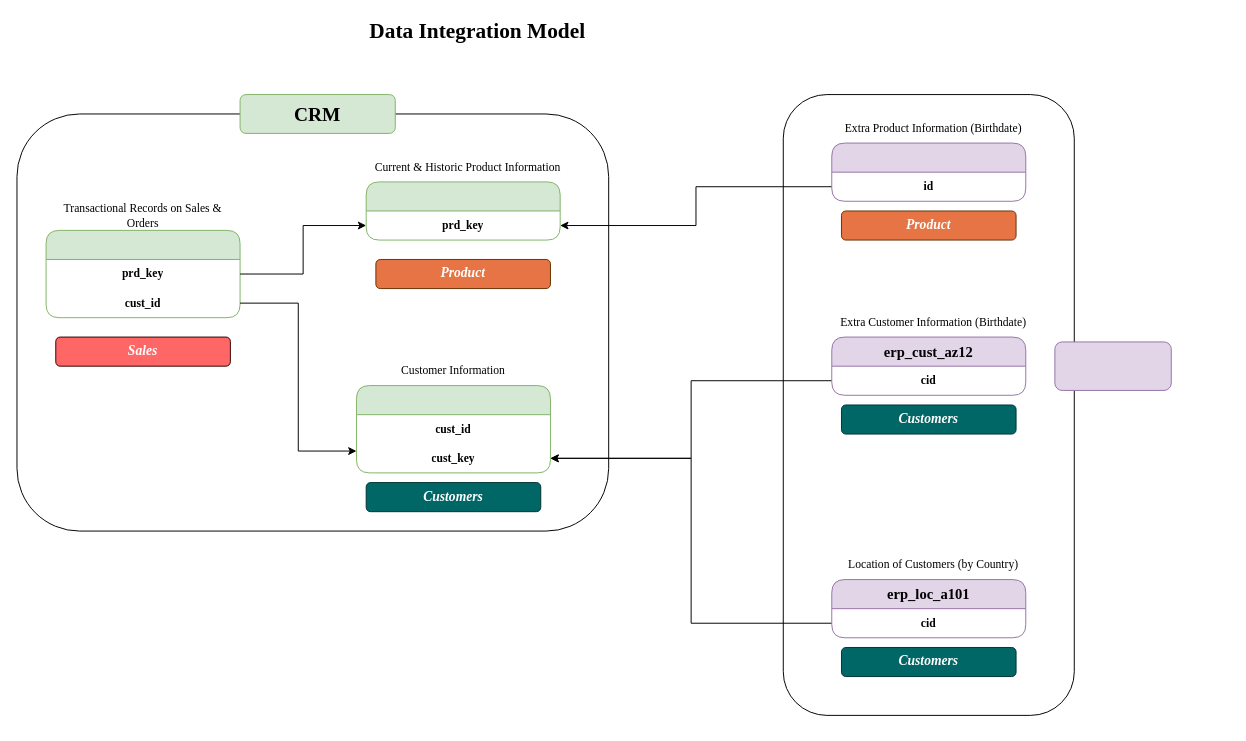
Some shapes in this 1246 by 741 pixel diagram are drawn without their labels. Here are the shapes that lost their labels. From the top down, the box of each, then its label:
(831, 142, 1026, 201): erp_px_cat_g1v2
(365, 181, 560, 240): crm_prd_info
(45, 229, 240, 318): crm_sales_details
(1054, 341, 1171, 390): ERP
(356, 385, 550, 473): crm_cust_info
